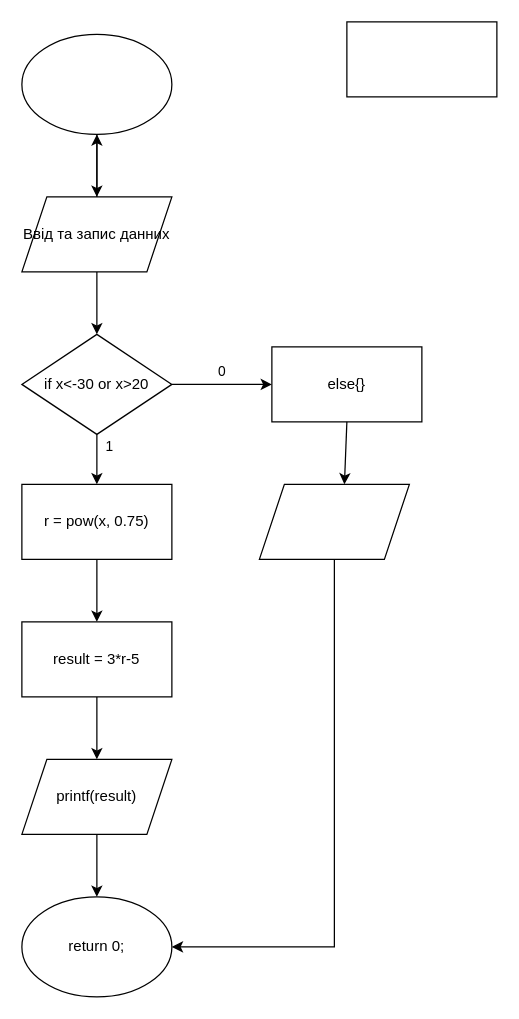
Some shapes in this 519 by 1019 pixel diagram are drawn without their labels. Here are the shapes that lost their labels. From the top down, the centre of each, then its label:
point (421, 59): ІО-61 Бусіфі Карім лабораторна 1 Задача 2
point (96, 83): MAIN()
point (333, 521): printf("function is not definied")
